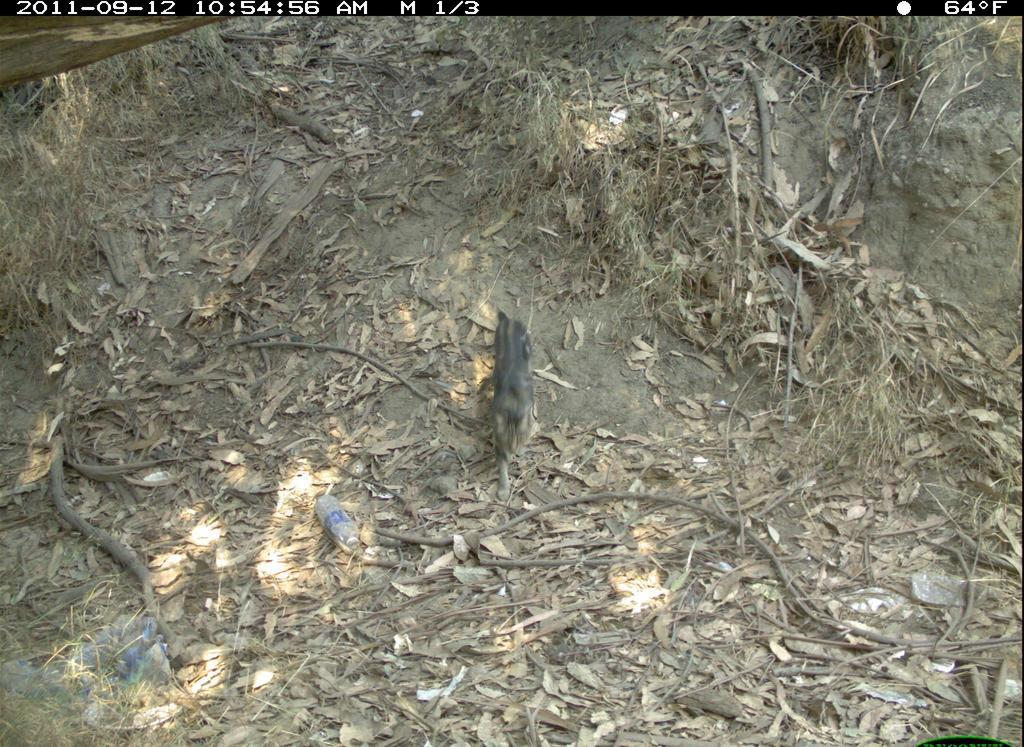cat: (479, 296, 547, 500)
